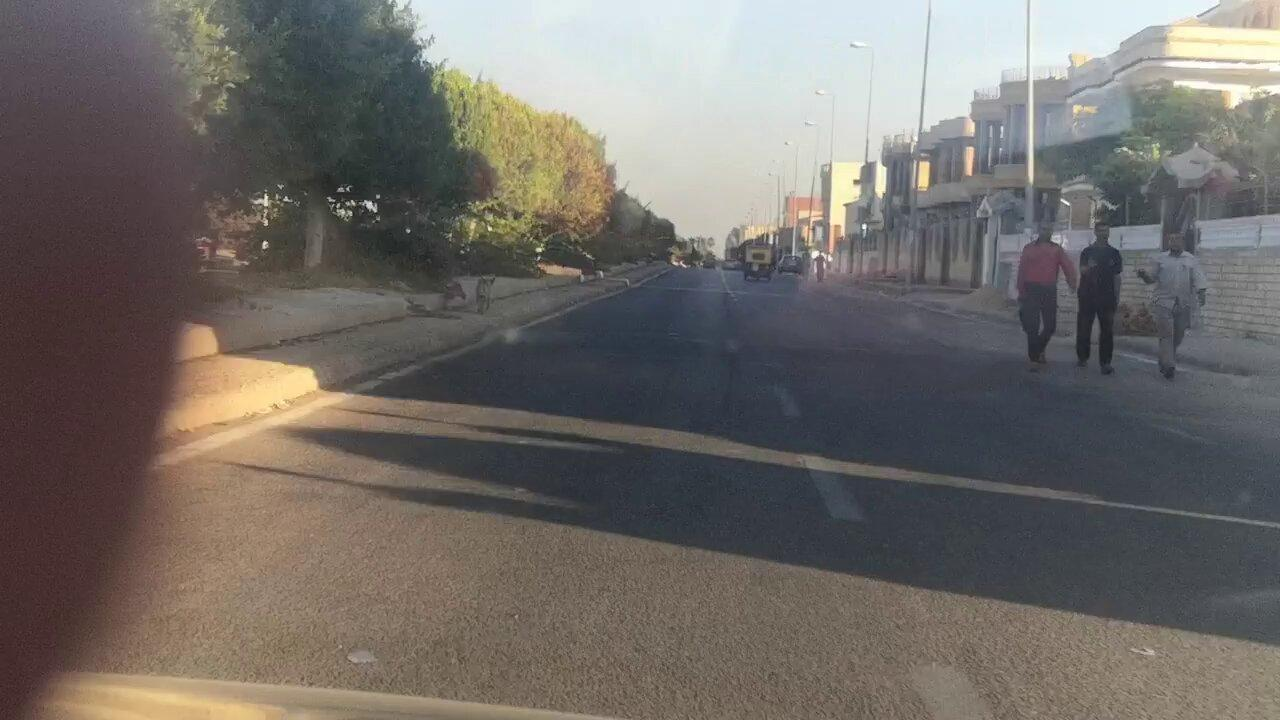Bump: (497, 333, 1057, 368)
